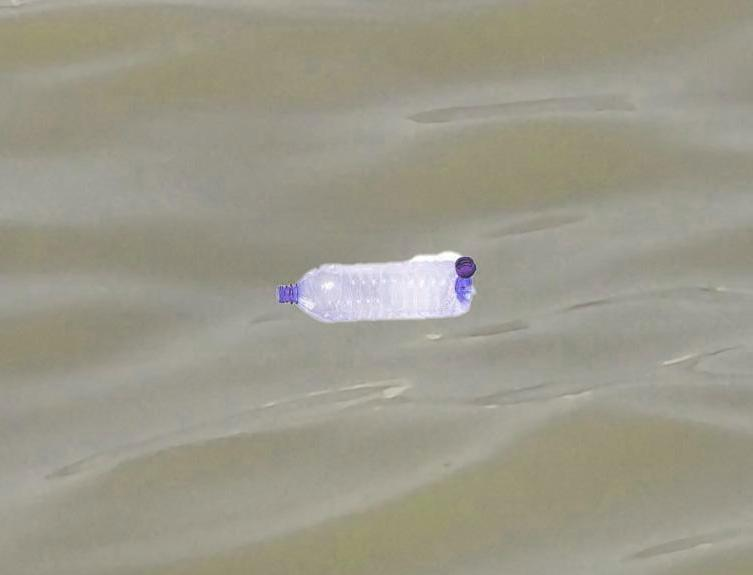Plastic: (281, 248, 477, 323)
